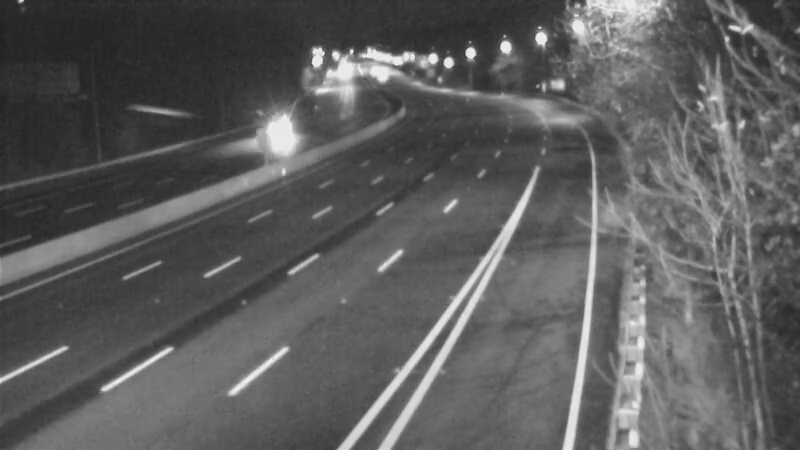vehicle: (250, 107, 300, 157)
